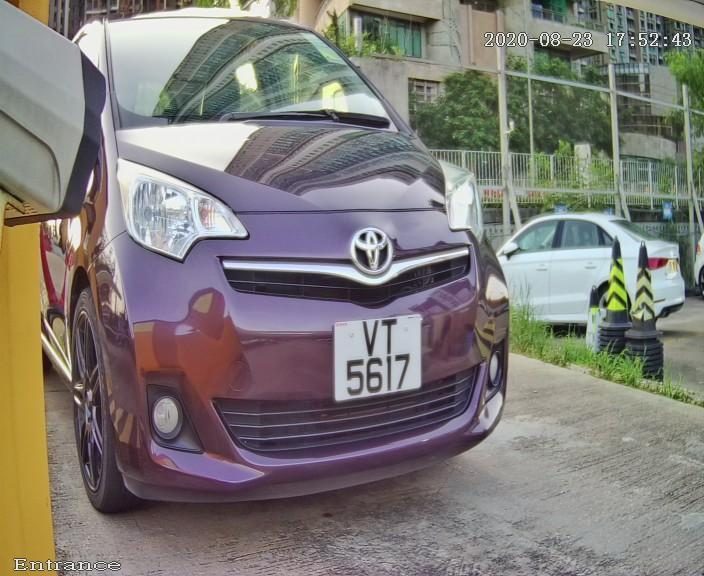License Plate: (297, 284, 450, 435)
